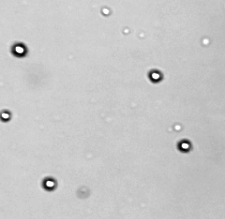Living Cell: (11, 42, 27, 58), (42, 177, 57, 191), (178, 139, 192, 153), (148, 70, 163, 83), (1, 110, 12, 122)
